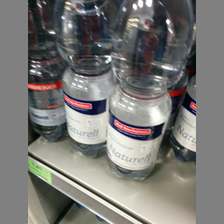water: (107, 1, 194, 183), (53, 1, 111, 158)
